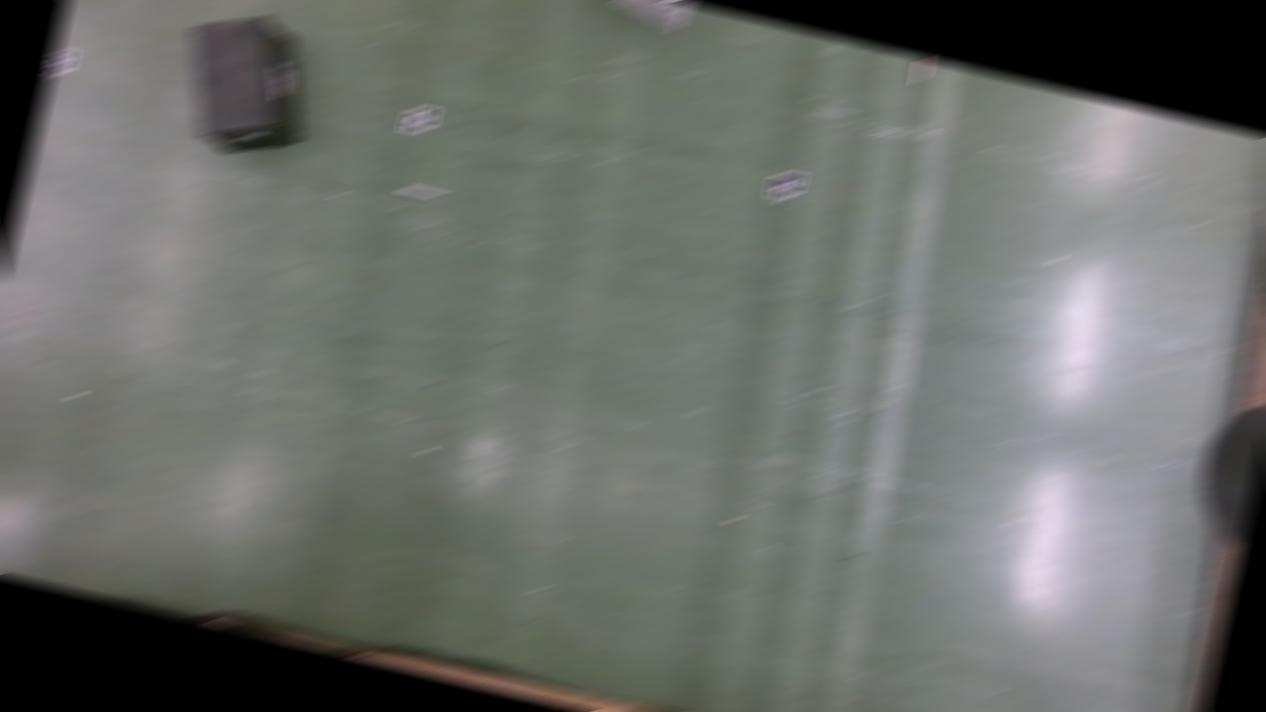probes: (400, 185, 446, 204), (910, 58, 933, 84)
rako: (164, 5, 326, 167), (598, 1, 696, 30)
